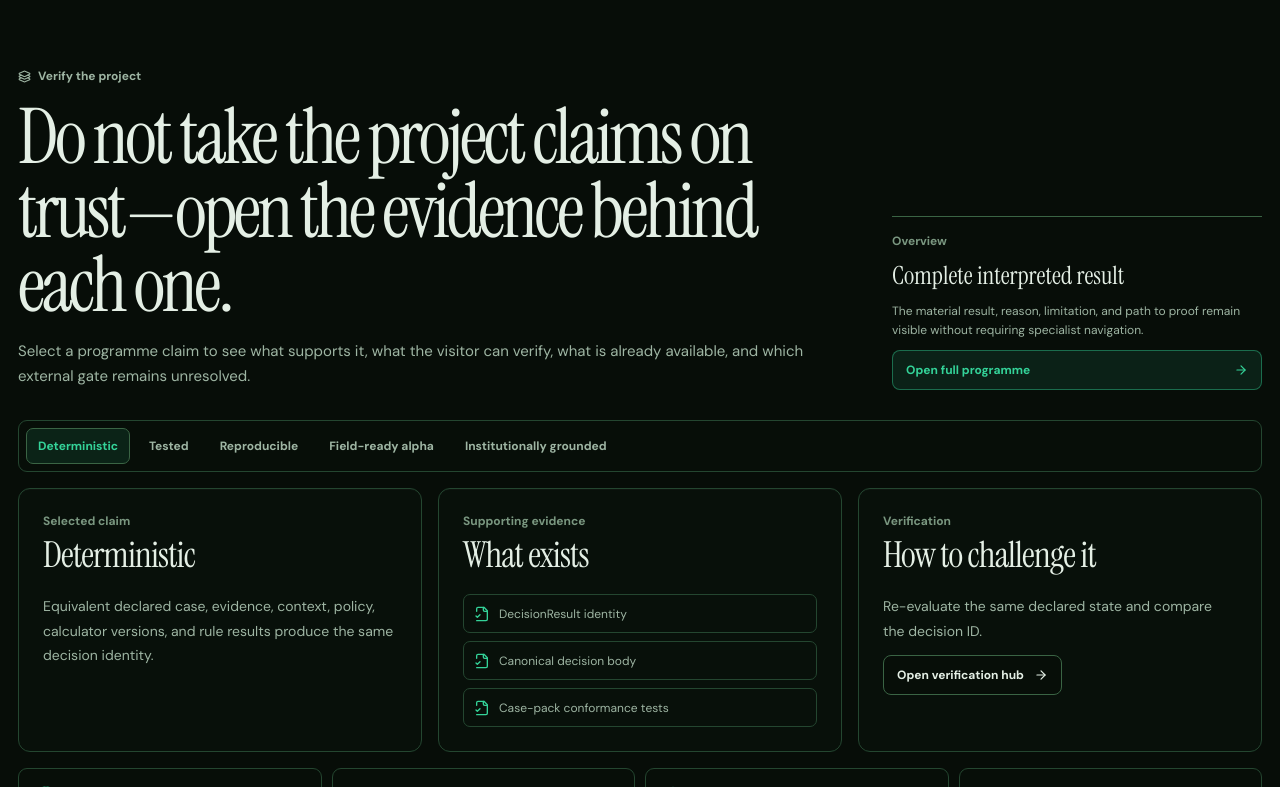
Test case: paired platform surfaces › lets users challenge programme claims instead of reading a static progress page
Click the button "Field-ready alpha": (382,446) [317,428,446,464]
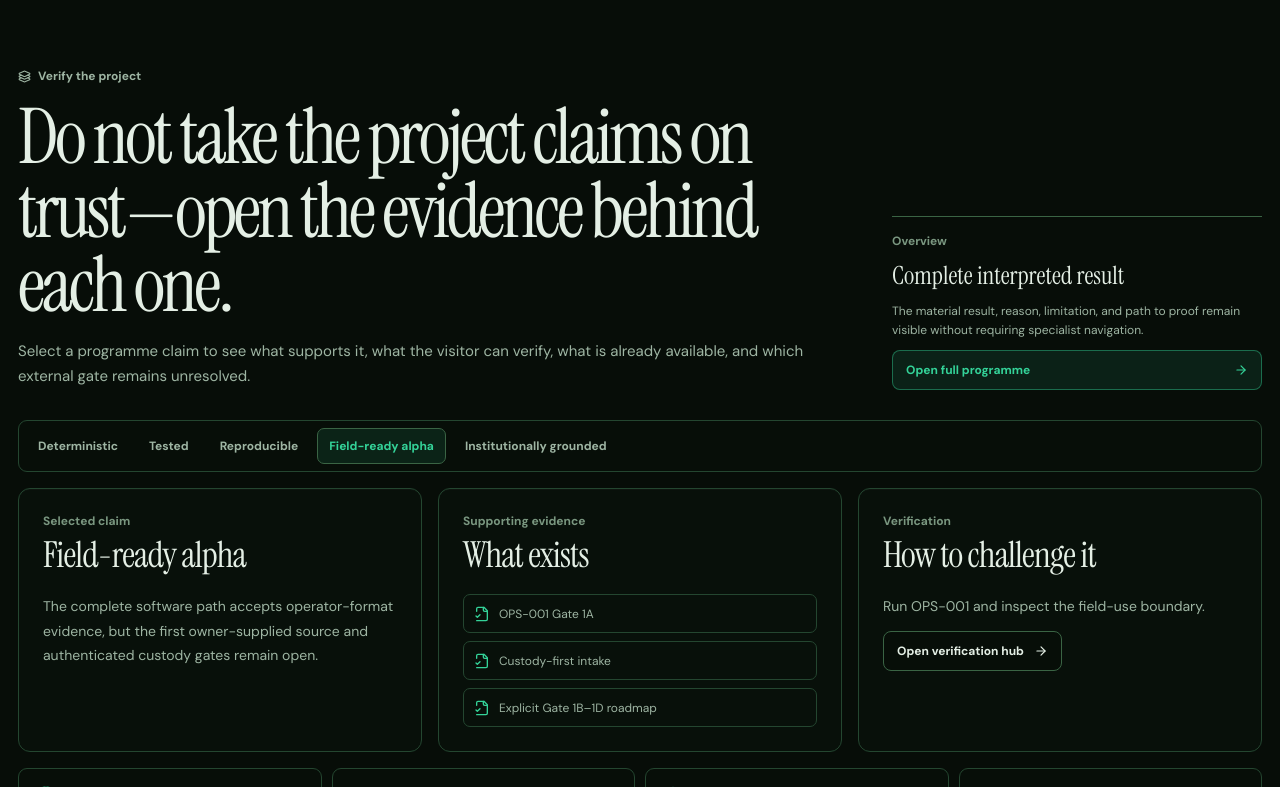
Expected: the text "first owner-supplied source" is shown, [43,597,393,664]
Expected: the text "OPS-001 Gate 1A" is shown, [499,606,594,622]
